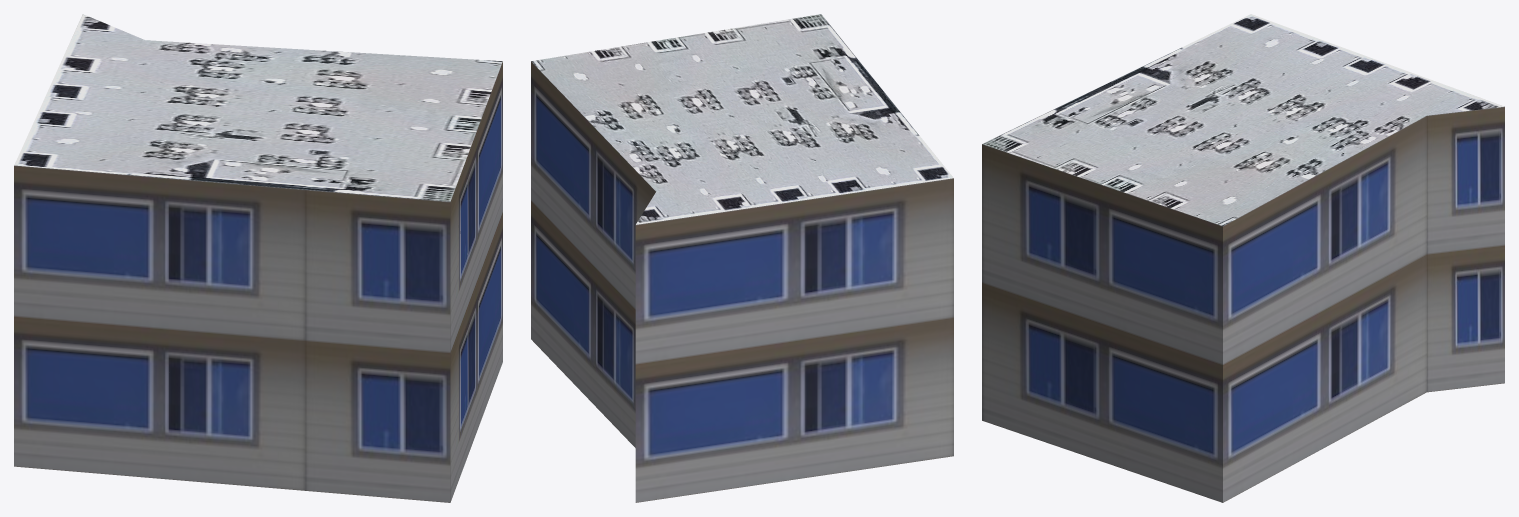
Rendered from ResTex__420.fbx.
3 views of the same model, side by side, from view 1: azimuth 30°, elevation 25°; view 2: azimuth 150°, elevation 25°; view 3: azimuth 270°, elevation 25° (orthographic). The views are drawn at different scales.
Visible parts, largest first — view 1: CityEngineMaterial_23_m, CityEngineMaterial_m; view 2: CityEngineMaterial_23_m, CityEngineMaterial_m; view 3: CityEngineMaterial_23_m, CityEngineMaterial_m.
Boxes of the visible parts, box(x1,y1,x2,y2) form: CityEngineMaterial_23_m: box(14, 61, 502, 502); CityEngineMaterial_m: box(14, 14, 502, 201); CityEngineMaterial_23_m: box(531, 61, 953, 502); CityEngineMaterial_m: box(531, 14, 953, 224); CityEngineMaterial_23_m: box(982, 106, 1504, 502); CityEngineMaterial_m: box(982, 14, 1503, 225).
Size of the model in its own units: 9.87 by 6 by 10.27.
Materials: 2 (2 with a texture image).
